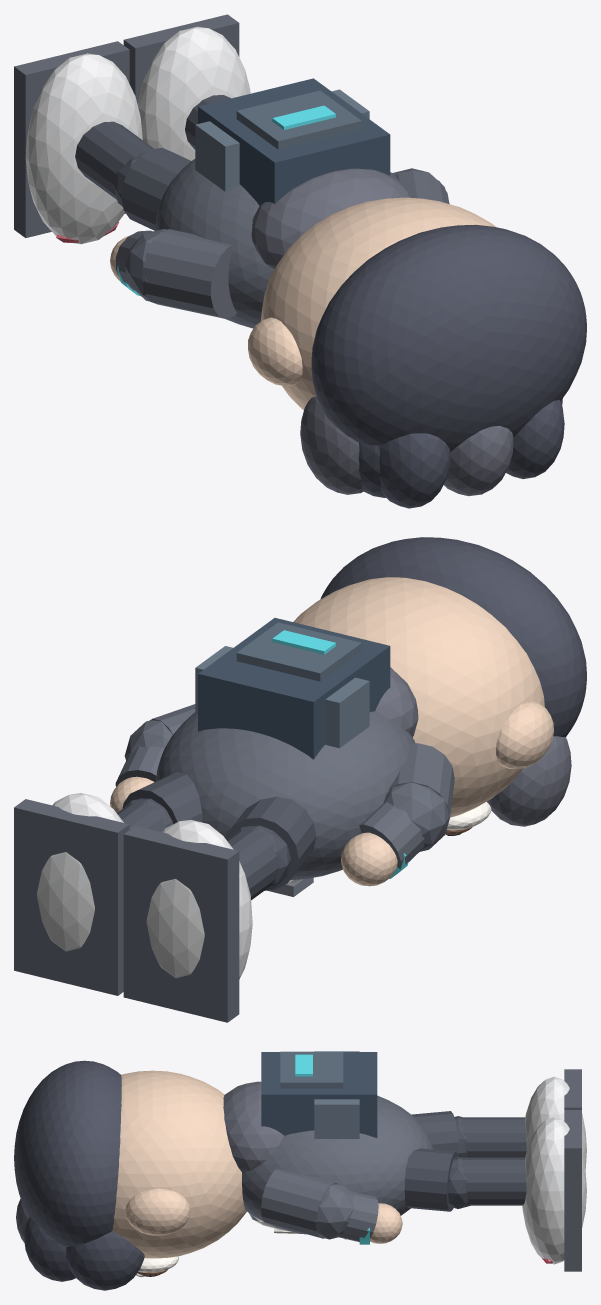
The model's file is devarshi_chibi_character.glb.
3 views of the same model, one above another, from view 1: azimuth 30°, elevation 25°; view 2: azimuth 150°, elevation 25°; view 3: azimuth 270°, elevation 25° (orthographic). The views are drawn at different scales.
Parts seen in each view (by area): view 1: HairCap, Sneaker_L, Face, Backpack_Main, Sneaker_R, Hoodie_Torso, Hood, SleeveUpper_L, Sneaker_sole_L, HairTuft_7, HairTuft_0, Backpack_Front (+11 smaller); view 2: Face, Hoodie_Torso, Sneaker_sole_L, HairCap, Sneaker_sole_R, Backpack_Main, Sneaker_L, Sneaker_R, HairTuft_0, Backpack_Front, Thigh_L, Ear_-1 (+15 smaller); view 3: Face, HairCap, Hoodie_Torso, Backpack_Main, Sneaker_R, Hood, SleeveUpper_R, HairTuft_5, LowerLeg_R, Sneaker_sole_R, Thigh_R, LowerLeg_L (+14 smaller).
Part boxes in pixels (<box>): HairCap: <box>311,224,586,452</box>; Sneaker_L: <box>25,53,142,244</box>; Face: <box>261,197,496,410</box>; Backpack_Main: <box>198,78,390,205</box>; Sneaker_R: <box>137,26,250,160</box>; Hoodie_Torso: <box>155,159,398,328</box>; Hood: <box>251,168,412,269</box>; SleeveUpper_L: <box>142,229,236,318</box>; Sneaker_sole_L: <box>14,41,129,237</box>; HairTuft_7: <box>379,433,450,508</box>; HairTuft_0: <box>300,396,363,494</box>; Backpack_Front: <box>236,90,361,149</box>; Face: <box>293,577,544,817</box>; Hoodie_Torso: <box>156,711,415,880</box>; Sneaker_sole_L: <box>123,826,239,1022</box>; HairCap: <box>320,537,586,736</box>; Sneaker_sole_R: <box>14,799,129,995</box>; Backpack_Main: <box>198,618,390,759</box>; Sneaker_L: <box>146,819,252,979</box>; Sneaker_R: <box>37,793,123,951</box>; HairTuft_0: <box>487,736,571,826</box>; Backpack_Front: <box>236,622,361,681</box>; Thigh_L: <box>225,796,316,889</box>; Ear_-1: <box>496,701,553,768</box>; Face: <box>112,1070,246,1258</box>; HairCap: <box>14,1060,121,1246</box>; Hoodie_Torso: <box>242,1095,433,1234</box>; Backpack_Main: <box>261,1052,377,1137</box>; Sneaker_R: <box>522,1117,586,1264</box>; Hood: <box>223,1081,283,1172</box>; SleeveUpper_R: <box>261,1168,337,1238</box>; HairTuft_5: <box>66,1230,144,1290</box>; LowerLeg_R: <box>453,1157,526,1205</box>; Sneaker_sole_R: <box>564,1110,581,1271</box>; Thigh_R: <box>404,1148,458,1211</box>; LowerLeg_L: <box>454,1117,526,1157</box>.
Bounding box in the file's own units: 1.09 × 0.857 × 2.27.
